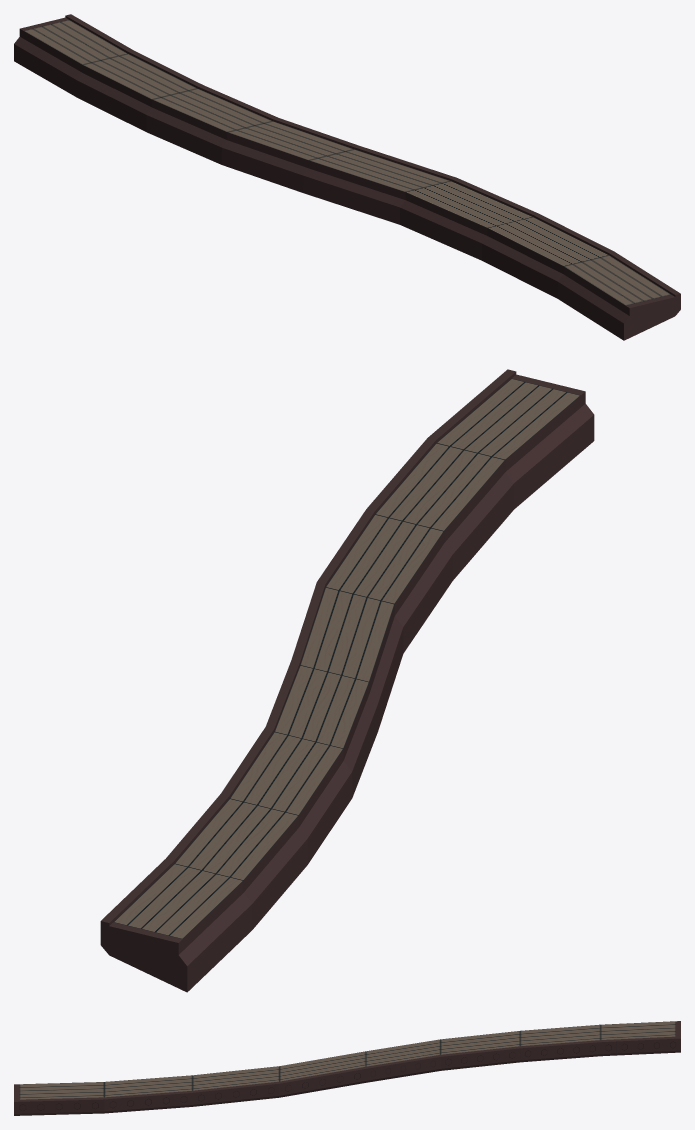
Rendered from SW_ENV_EL_TrackBase_Jog_Walkway_Side_20m.fbx.
3 renders of one model, top to bottom at view 1: azimuth 30°, elevation 25°; view 2: azimuth 150°, elevation 25°; view 3: azimuth 270°, elevation 25°, orthographic. The views are drawn at different scales.
Parts seen in each view (by area): view 1: SW_ENV_EL_TrackBase_Jog_Walkway_Side_20m; view 2: SW_ENV_EL_TrackBase_Jog_Walkway_Side_20m; view 3: SW_ENV_EL_TrackBase_Jog_Walkway_Side_20m.
Part boxes in pixels (bbox=[...]): SW_ENV_EL_TrackBase_Jog_Walkway_Side_20m: bbox=[14, 14, 680, 340]; SW_ENV_EL_TrackBase_Jog_Walkway_Side_20m: bbox=[100, 369, 594, 992]; SW_ENV_EL_TrackBase_Jog_Walkway_Side_20m: bbox=[14, 1021, 680, 1115].
Size of the model in its own units: 600 by 83.5 by 2000.
